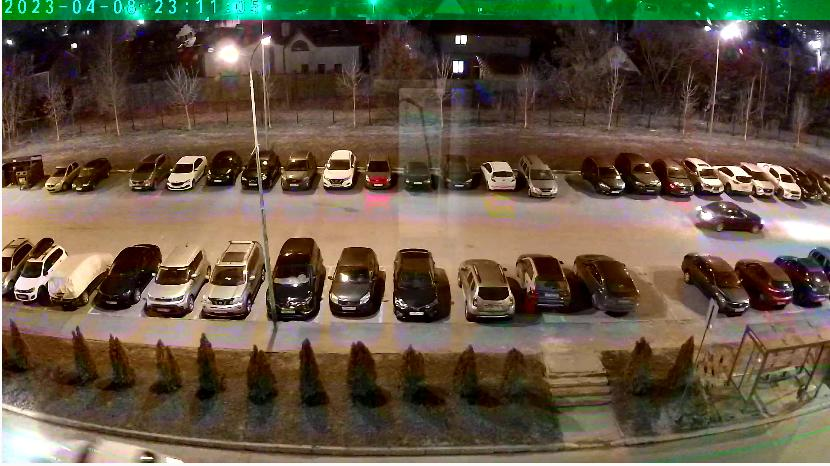empty: (387, 252, 454, 324), (456, 262, 528, 324), (577, 259, 653, 316), (684, 258, 760, 315), (266, 250, 326, 321), (95, 250, 161, 313), (323, 256, 388, 318), (48, 245, 113, 307), (195, 262, 261, 320), (519, 256, 585, 312), (8, 240, 68, 301), (138, 261, 201, 319), (733, 260, 807, 309), (691, 199, 767, 236), (783, 250, 828, 306), (756, 165, 821, 201), (616, 158, 666, 197), (582, 153, 625, 198), (159, 154, 210, 191), (520, 154, 561, 199), (715, 165, 771, 197), (127, 155, 175, 192), (654, 161, 701, 198), (477, 161, 526, 194), (239, 150, 278, 189), (436, 154, 474, 191), (207, 152, 247, 187), (316, 156, 357, 190), (364, 149, 395, 193), (71, 156, 107, 193), (46, 161, 82, 196), (277, 162, 317, 193), (402, 158, 437, 193), (805, 169, 830, 200)
occupied: (631, 255, 698, 321), (552, 159, 593, 201), (101, 159, 135, 194)
